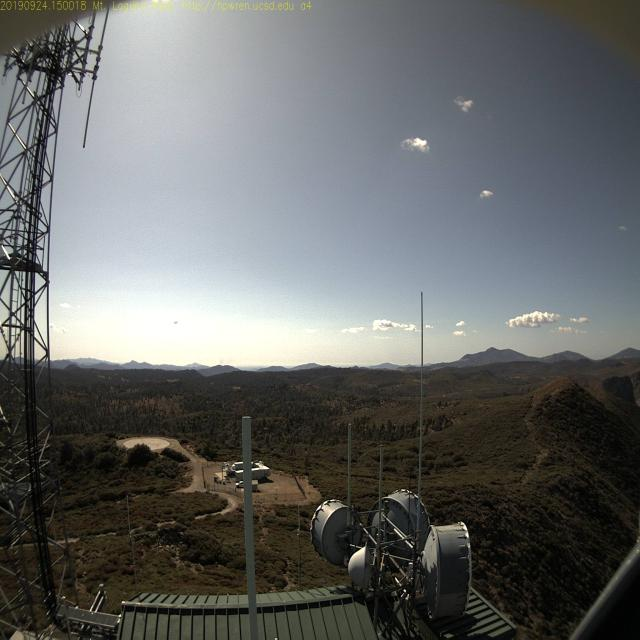smoke: (214, 350, 232, 372)
